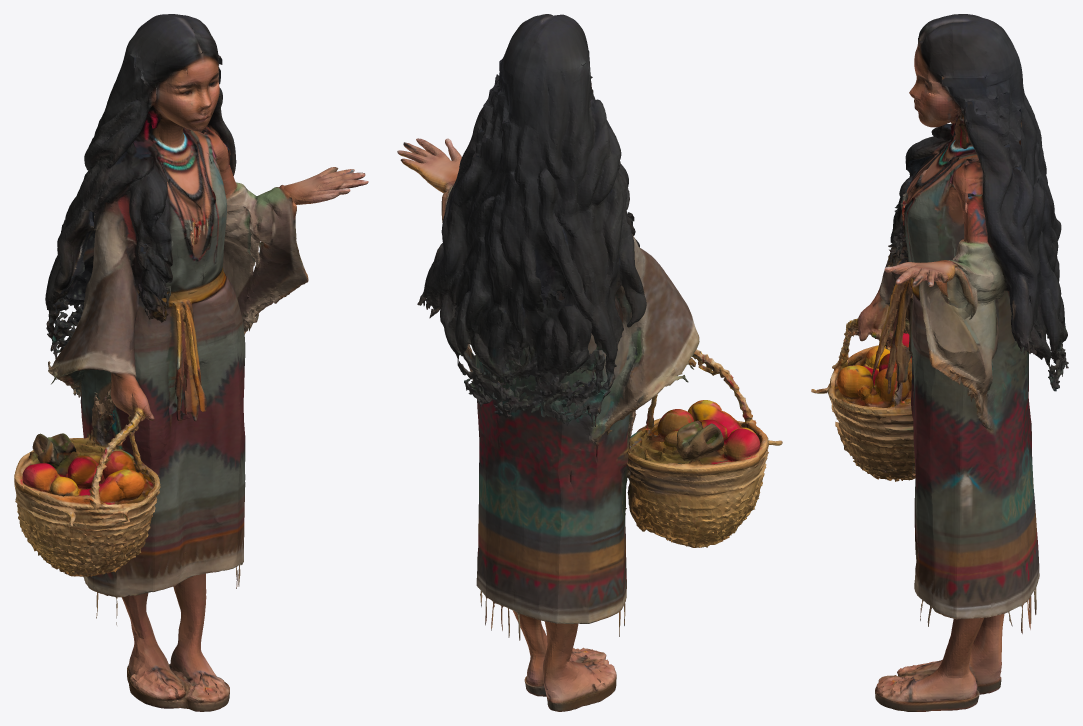
Rendered from Mujer_joven_indígena_0403165839_texture.fbx.
3 views of the same model, side by side, from view 1: azimuth 30°, elevation 25°; view 2: azimuth 150°, elevation 25°; view 3: azimuth 270°, elevation 25° (orthographic). The views are drawn at different scales.
Visible parts, largest first — view 1: temp; view 2: temp; view 3: temp.
Part boxes in pixels (x1,y1,x2,y2): temp: (14, 14, 368, 711); temp: (397, 14, 782, 711); temp: (811, 14, 1068, 711).
Bounding box in the file's own units: 110 × 200 × 68.24.
1 material, 1 textured.
